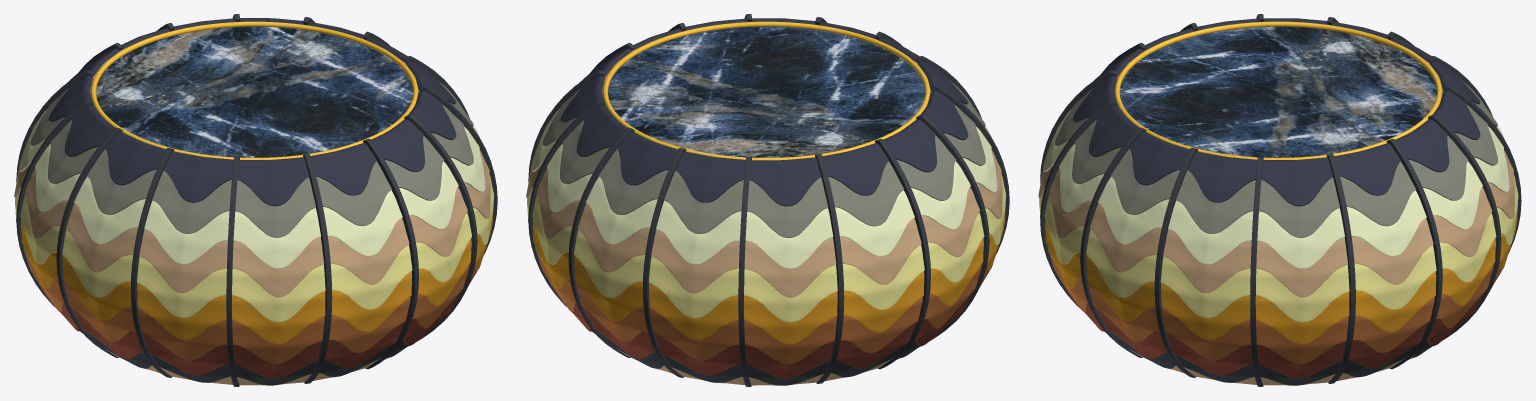
Rendered from SLN_Fruits_of_Paradise_MID.glb.
3 renders of one model, left to right at view 1: azimuth 30°, elevation 25°; view 2: azimuth 150°, elevation 25°; view 3: azimuth 270°, elevation 25°, orthographic.
Parts seen in each view (by area): view 1: Fruits_of_Paradise_MID; view 2: Fruits_of_Paradise_MID; view 3: Fruits_of_Paradise_MID.
Part boxes in pixels (x1=…): Fruits_of_Paradise_MID: x1=14, y1=14, x2=497, y2=386; Fruits_of_Paradise_MID: x1=526, y1=14, x2=1009, y2=386; Fruits_of_Paradise_MID: x1=1038, y1=14, x2=1521, y2=386.
Size of the model in its own units: 0.7638 by 0.4 by 0.7624.
Materials: 14 (2 with a texture image).
